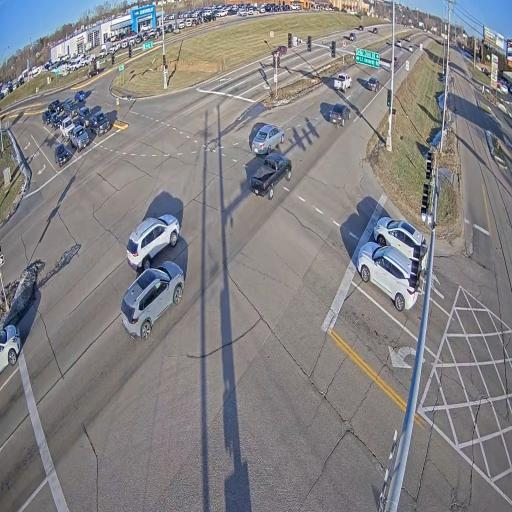pickup: (251, 153, 292, 200), (70, 125, 90, 152), (91, 111, 110, 136), (60, 116, 75, 141), (334, 72, 352, 92), (64, 100, 78, 119), (49, 100, 64, 113), (87, 68, 99, 78), (396, 39, 402, 47)
sedan: (251, 124, 284, 154), (329, 103, 351, 126), (367, 77, 380, 92), (274, 45, 287, 55), (394, 57, 398, 66)
suv: (121, 261, 184, 340), (357, 241, 419, 310), (127, 215, 180, 272), (374, 217, 428, 271), (0, 325, 21, 371), (54, 143, 71, 167), (77, 107, 92, 128), (50, 113, 61, 130), (42, 109, 52, 124), (74, 91, 86, 101), (349, 32, 356, 41), (358, 25, 364, 32), (373, 27, 378, 33), (405, 36, 411, 40), (409, 46, 413, 51)
